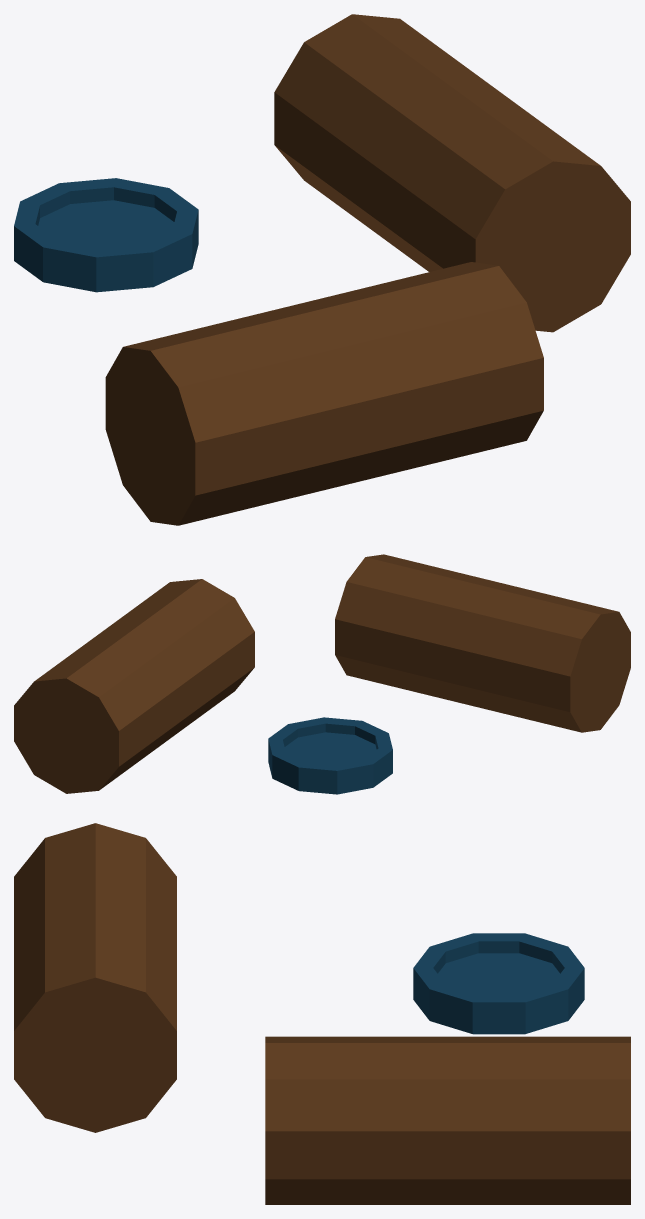
The model's file is SM_Campfire.fbx.
3 renders of one model, top to bottom at view 1: azimuth 30°, elevation 25°; view 2: azimuth 150°, elevation 25°; view 3: azimuth 270°, elevation 25°, orthographic. The views are drawn at different scales.
Visible parts, largest first — view 1: SM_Campfire; view 2: SM_Campfire; view 3: SM_Campfire.
Part boxes in pixels (<box>): SM_Campfire: <box>14,14,630,525</box>; SM_Campfire: <box>14,554,630,794</box>; SM_Campfire: <box>14,823,630,1204</box>.
Bounding box in the file's own units: 0.7024 × 0.7197 × 0.2.
